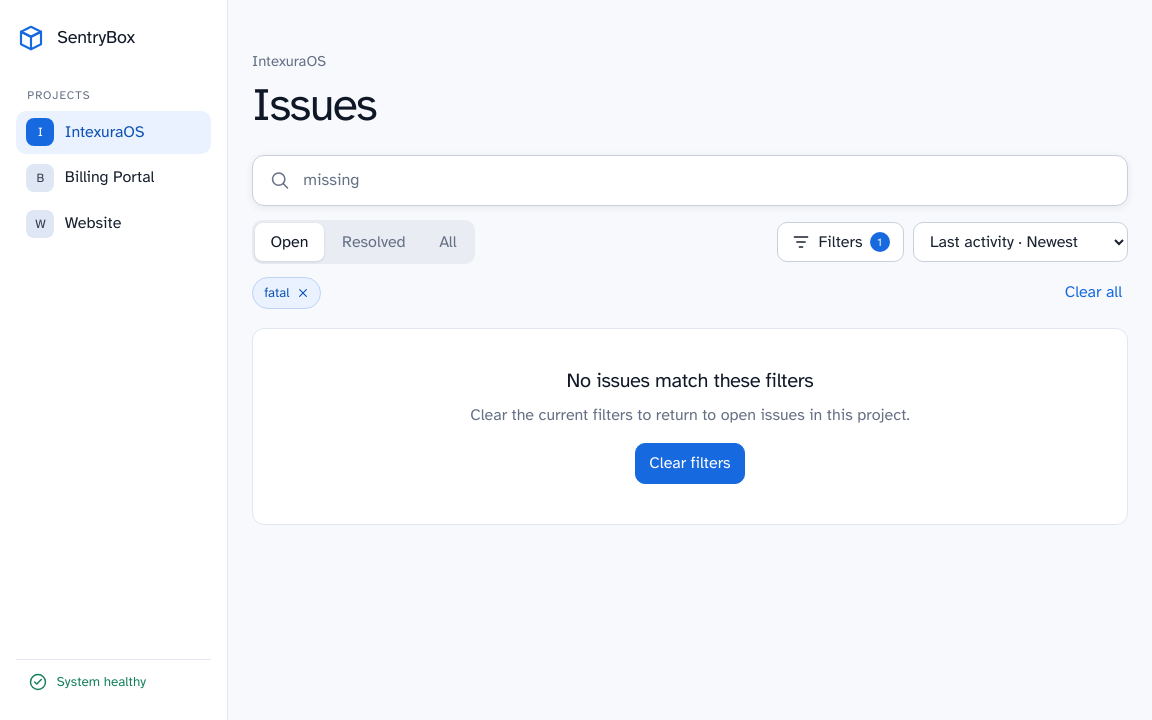
it: project-first issue list › explains an empty result and restores the project default
Expected: the heading "No issues match these filters" is shown, [567,368,813,393]
Step 1. Click the button "Clear filters" → (690, 464), box [635,443,745,484]
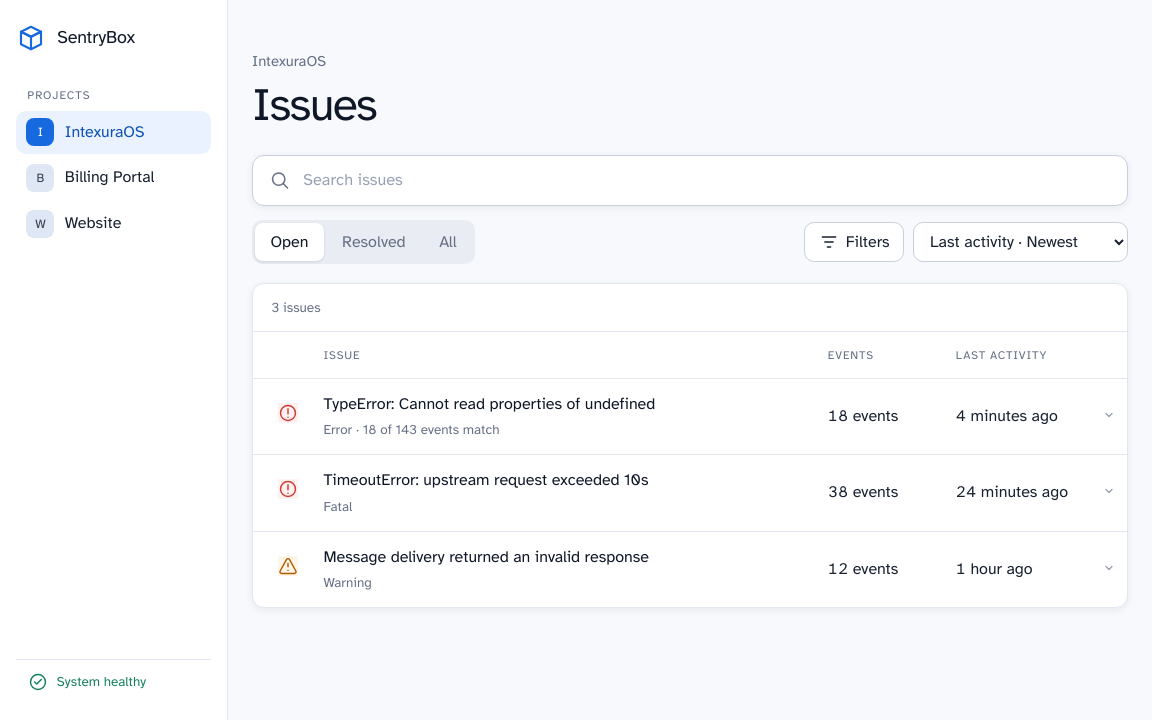
Now the link "TypeError: Cannot read properties of undefined" is shown, box [323,394,655,438]
